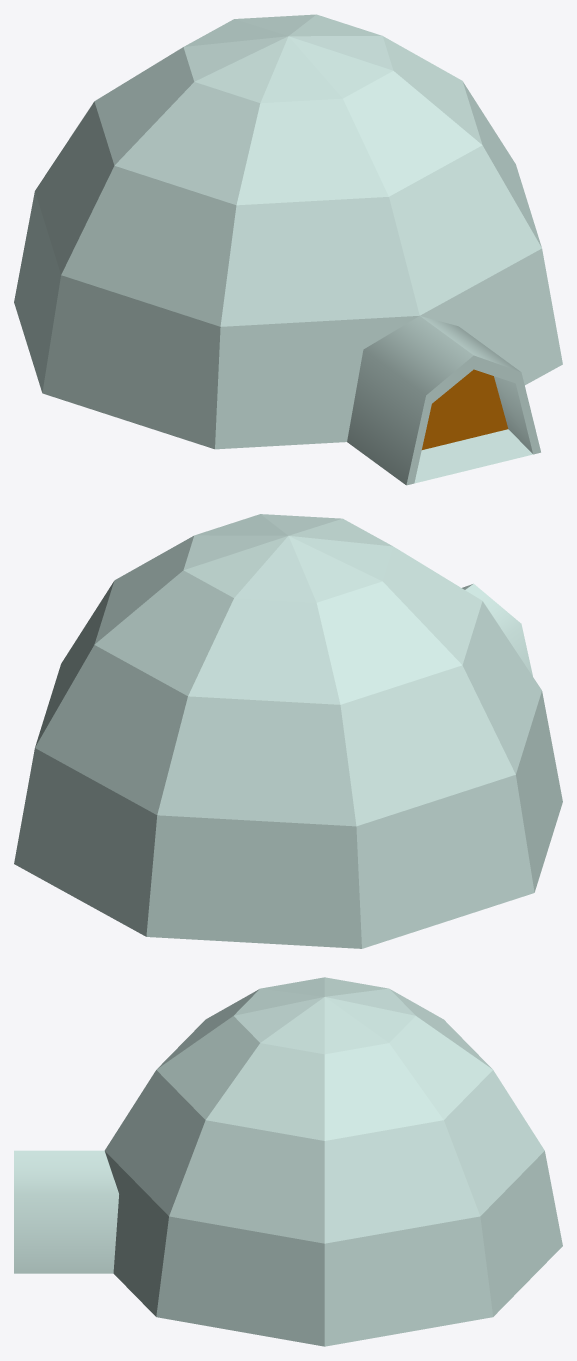
The model's file is igloo_1.fbx.
The picture shows the model from 3 angles, top to bottom: view 1: azimuth 30°, elevation 25°; view 2: azimuth 150°, elevation 25°; view 3: azimuth 270°, elevation 25°; orthographic projection. The views are drawn at different scales.
Visible parts, largest first — view 1: pSphere1, pCylinder1; view 2: pSphere1, pCylinder1; view 3: pSphere1, pCylinder1.
Boxes of the visible parts, box(x1,y1,x2,y2) form: pSphere1: box(14, 14, 562, 449); pCylinder1: box(347, 316, 540, 485); pSphere1: box(14, 514, 562, 948); pCylinder1: box(462, 583, 532, 676); pSphere1: box(104, 977, 562, 1346); pCylinder1: box(14, 1150, 118, 1273).
Bounding box in the file's own units: 2 × 1.15 × 2.3.
